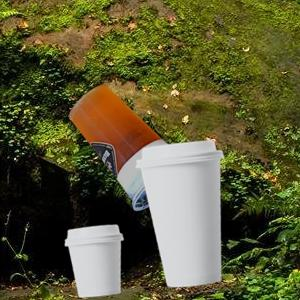cup: (137, 137, 226, 289), (63, 221, 125, 299)
